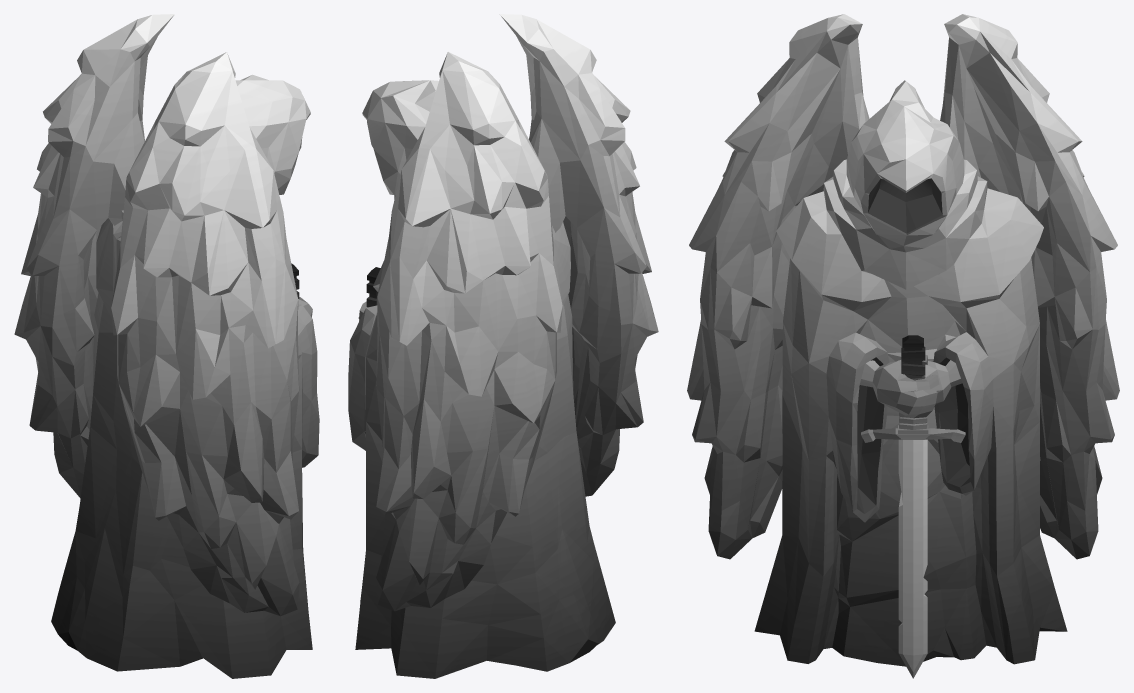
File: tianshi.fbx
The picture shows the model from 3 angles, left to right: view 1: azimuth 30°, elevation 25°; view 2: azimuth 150°, elevation 25°; view 3: azimuth 270°, elevation 25°; orthographic projection. The views are drawn at different scales.
Parts seen in each view (by area): view 1: tianshi; view 2: tianshi; view 3: tianshi.
Boxes of the visible parts, left/top/right/bottom form: tianshi: left=14, top=14, right=319, bottom=678; tianshi: left=348, top=14, right=658, bottom=678; tianshi: left=687, top=14, right=1119, bottom=678.
Bounding box in the file's own units: 392 × 922 × 593.
